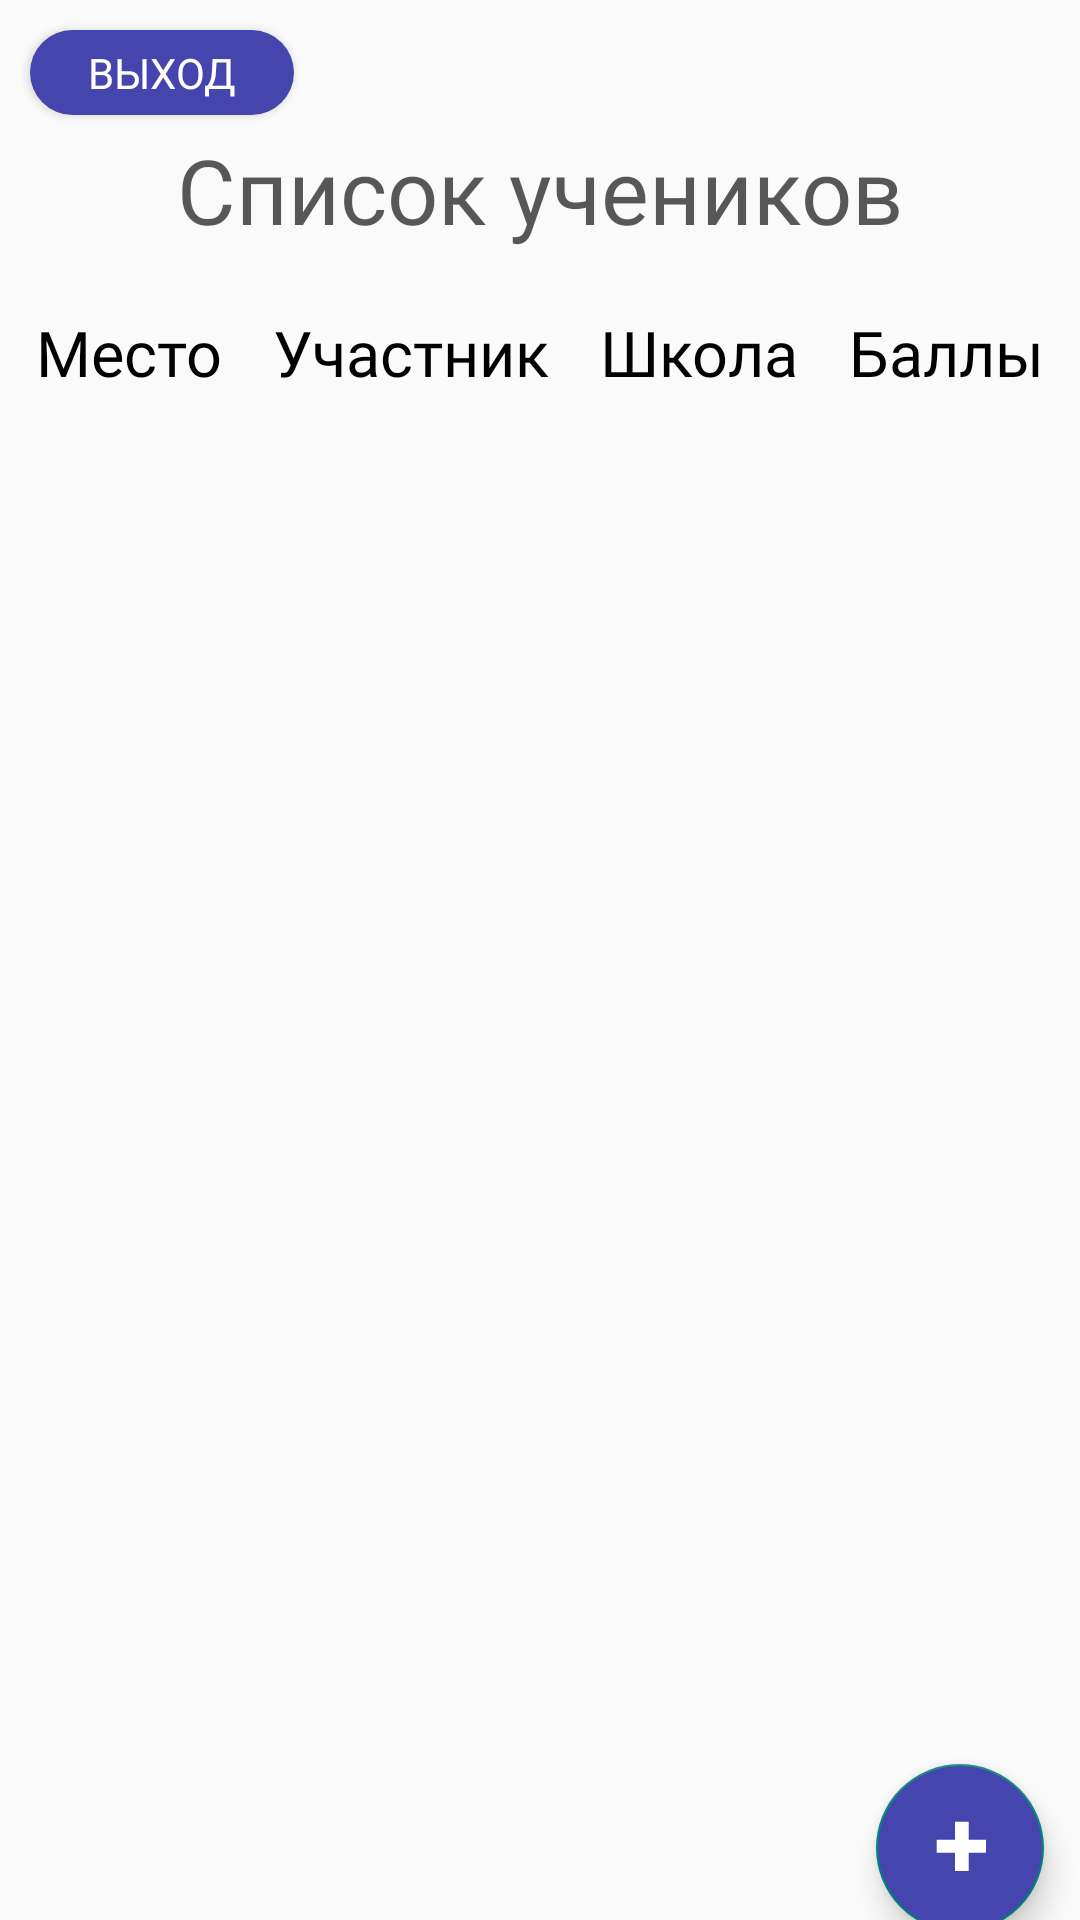

Icon bounding boxes for this 1080w x 1920h phone screenshot, format rect(x1, y1, x2, y2):
Создать: rect(876, 1764, 1044, 1920)
